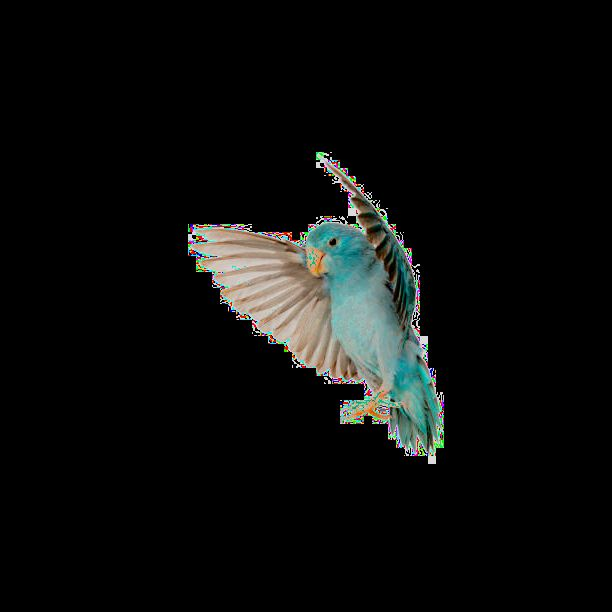Bird: (180, 149, 456, 461)
